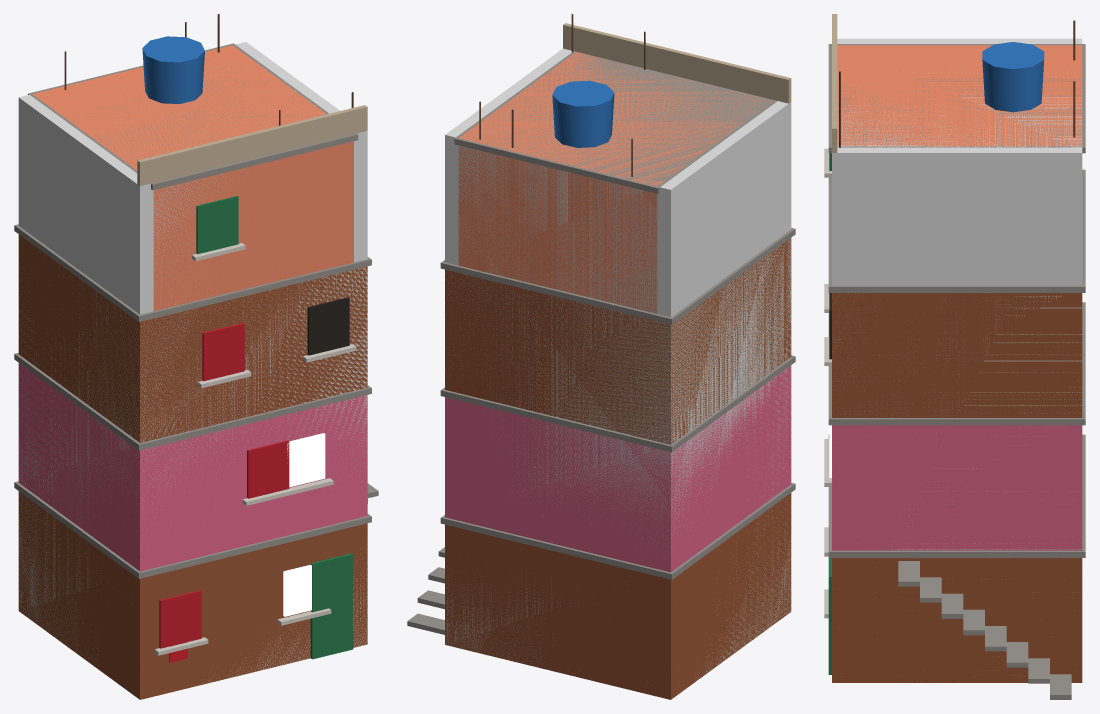
Rendered from casa_favela_6.glb.
The picture shows the model from 3 angles, left to right: view 1: azimuth 30°, elevation 25°; view 2: azimuth 150°, elevation 25°; view 3: azimuth 270°, elevation 25°; orthographic projection. The views are drawn at different scales.
Visible parts, largest first — view 1: casa_favela_6_Malla, COL_0; view 2: casa_favela_6_Malla, COL_0; view 3: casa_favela_6_Malla, COL_0.
Boxes of the visible parts, <box> form: casa_favela_6_Malla: <box>14,14,378,699</box>; COL_0: <box>18,42,367,683</box>; casa_favela_6_Malla: <box>407,14,795,699</box>; COL_0: <box>445,48,791,689</box>; casa_favela_6_Malla: <box>824,14,1085,699</box>; COL_0: <box>832,38,1082,681</box>.
Bounding box in the file's own units: 6.01 × 11.7 × 4.83.
